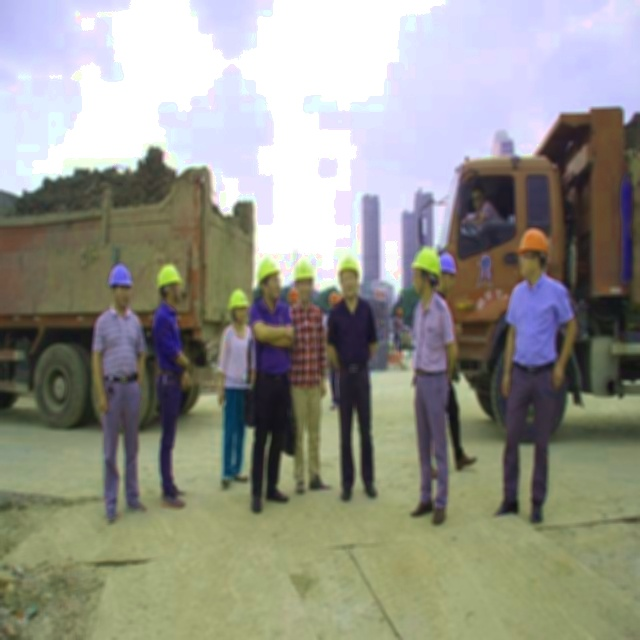Con_Casco: (517, 229, 548, 277), (159, 264, 182, 303)
Sin_Chaleco: (411, 296, 454, 376), (330, 296, 374, 373)
